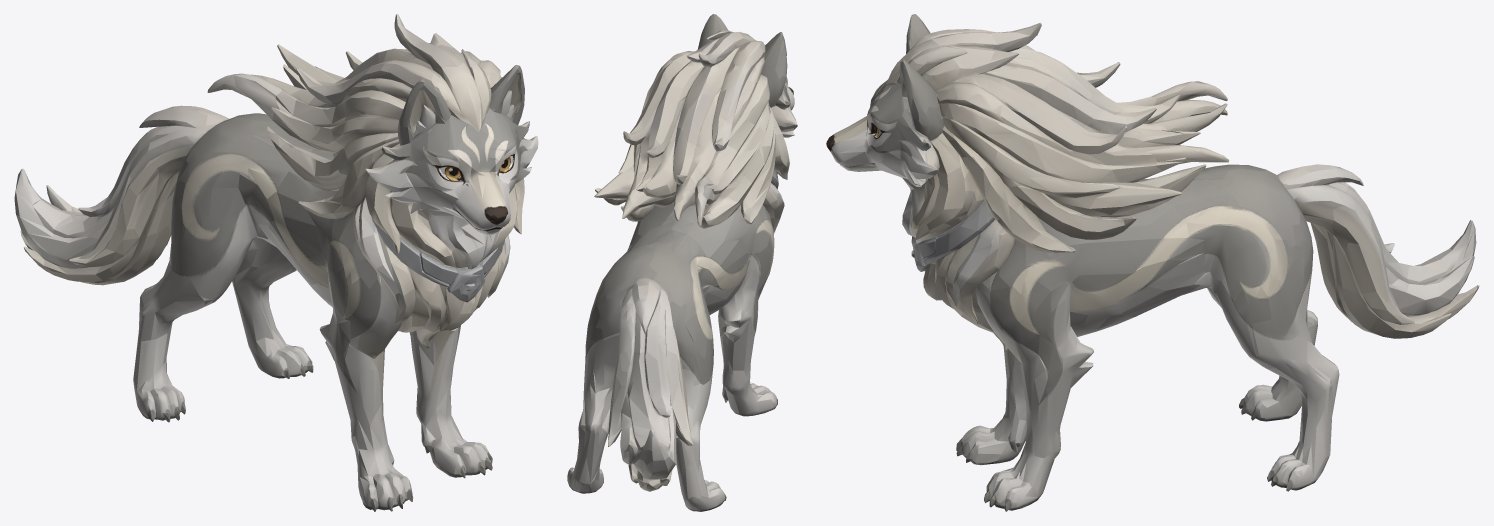
3 renders of one model, left to right at view 1: azimuth 30°, elevation 25°; view 2: azimuth 150°, elevation 25°; view 3: azimuth 270°, elevation 25°, orthographic. The views are drawn at different scales.
Bounding box in the file's own units: 0.8651 × 1.45 × 1.9.
Materials: 1 (1 with a texture image).
